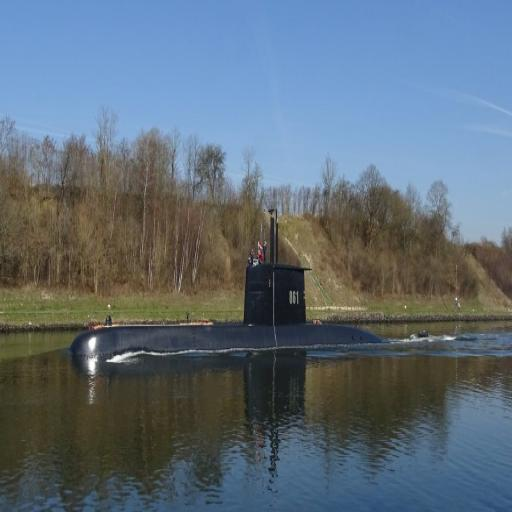submarine: (71, 202, 471, 362)
